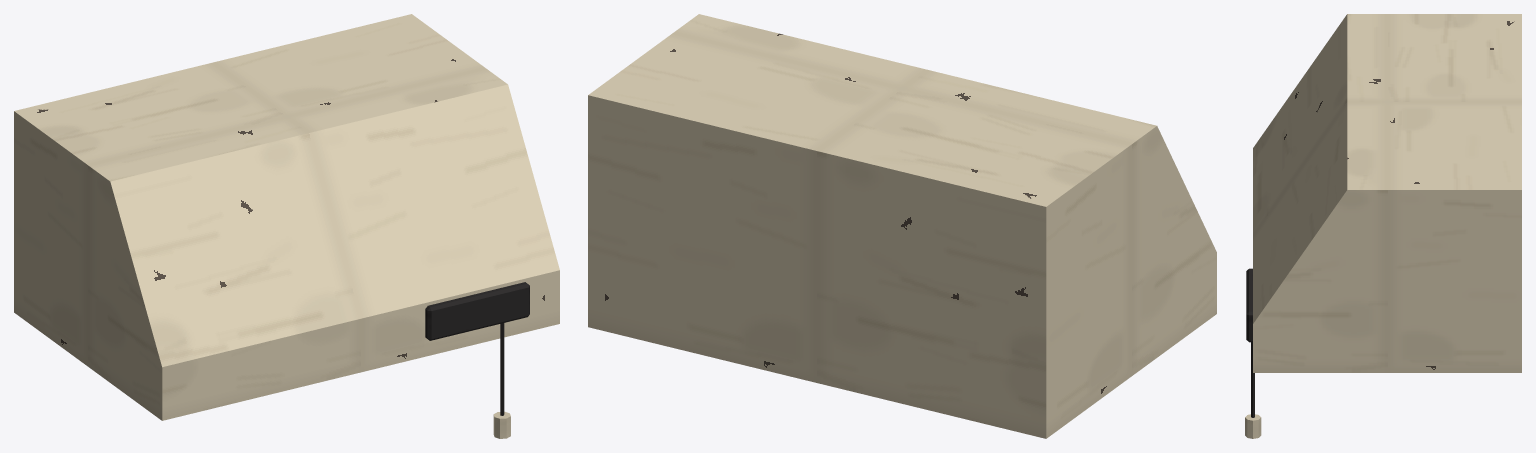
Rendered from range_fan.glb.
3 renders of one model, left to right at view 1: azimuth 30°, elevation 25°; view 2: azimuth 150°, elevation 25°; view 3: azimuth 270°, elevation 25°, orthographic. The views are drawn at different scales.
Visible parts, largest first — view 1: p; view 2: p; view 3: p.
Part boxes in pixels (x1=…): p: x1=14, y1=14, x2=559, y2=438; p: x1=588, y1=14, x2=1216, y2=438; p: x1=1245, y1=14, x2=1521, y2=438.
Size of the model in its own units: 0.62 by 0.445 by 0.412.
Materials: 3 (3 with a texture image).
